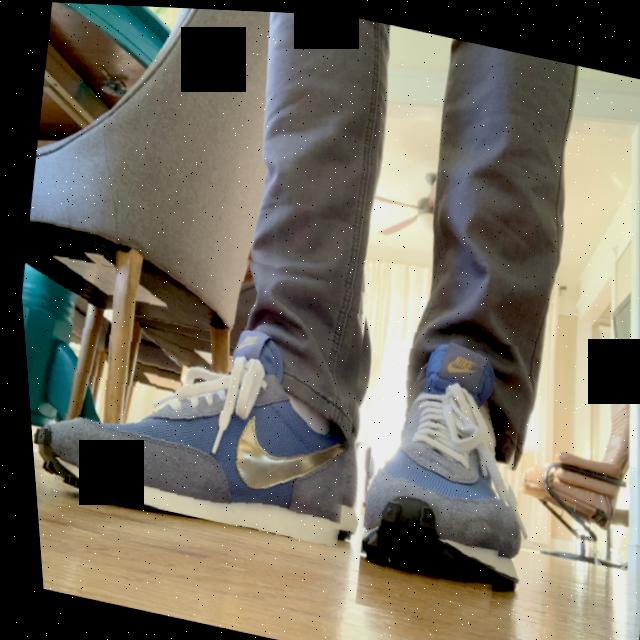shoe: (12, 202, 382, 547), (329, 312, 544, 634)
